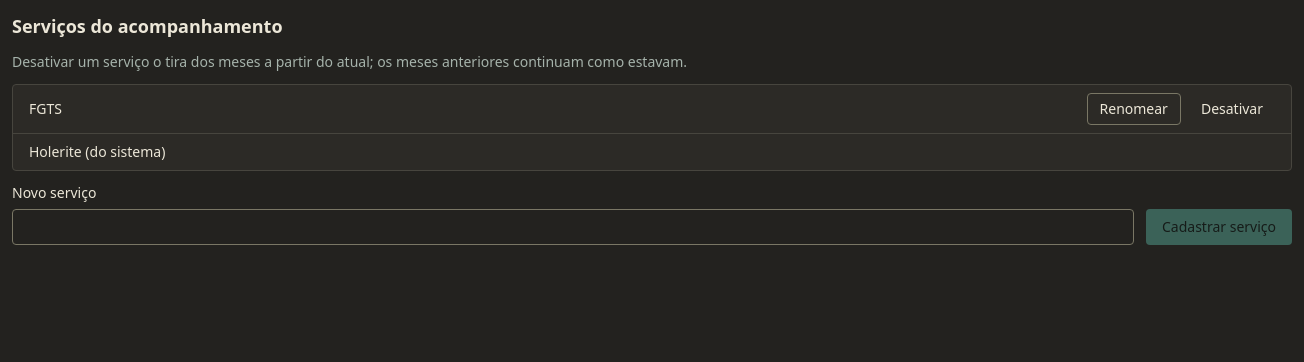
Test: ServicosDoAcompanhamentoContainer › desativar pede confirmação e o erro da ação aparece
Click the button with aria-label "Desativar FGTS" at (1232, 109), box [1189,93,1275,125]
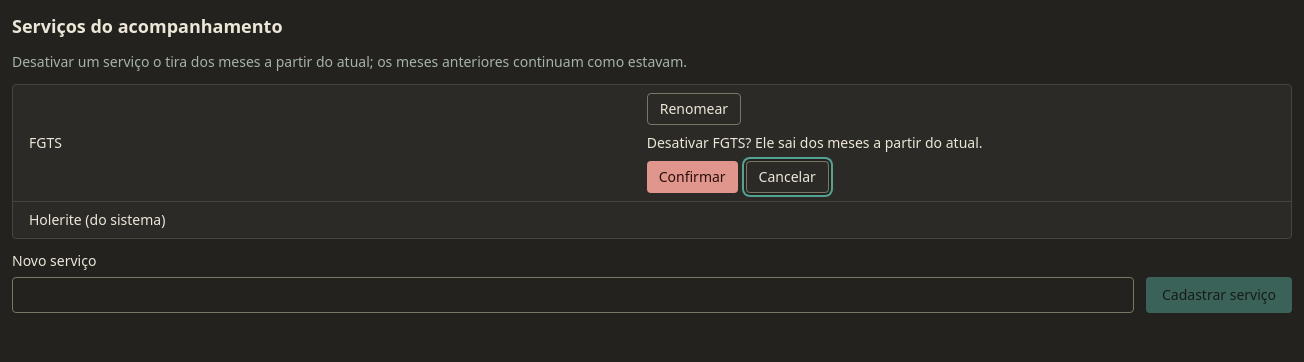
Click the button with aria-label "Confirmar desativação de FGTS" at (692, 177), box [647,161,738,193]
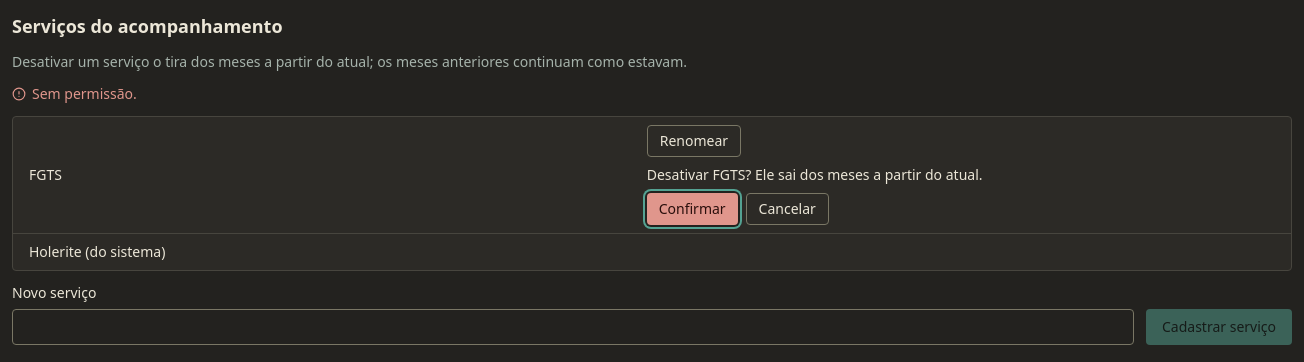
Now the text "Sem permissão." is shown, box [32,84,137,104]
